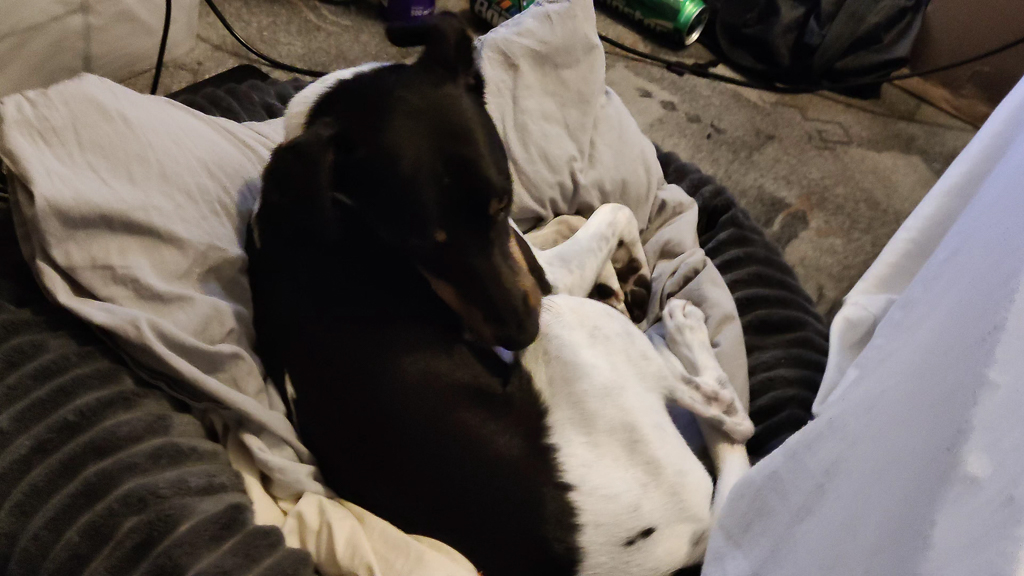Dog: (230, 8, 769, 576)
